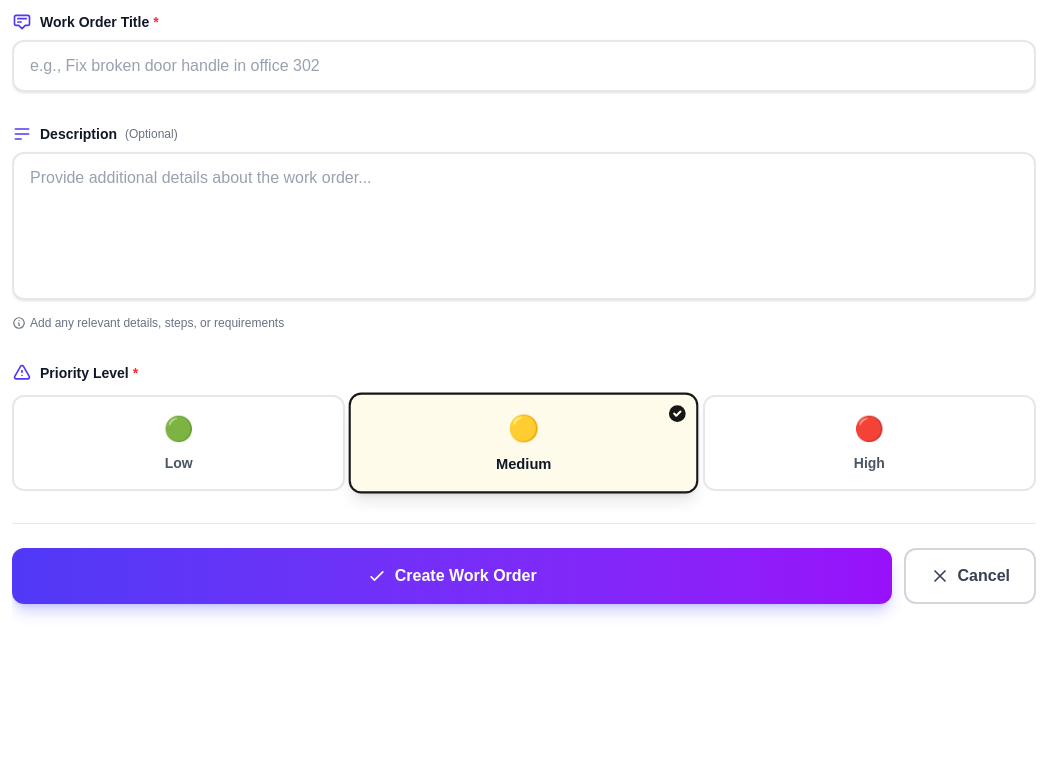
Test: WorkOrderForm › Create Mode › displays validation errors from API
The image size is (1048, 780).
Type "A" into the field labelled "Work Order Title *".
click(524, 66); type("A")  # box x1=12 y1=40 x2=1036 y2=92
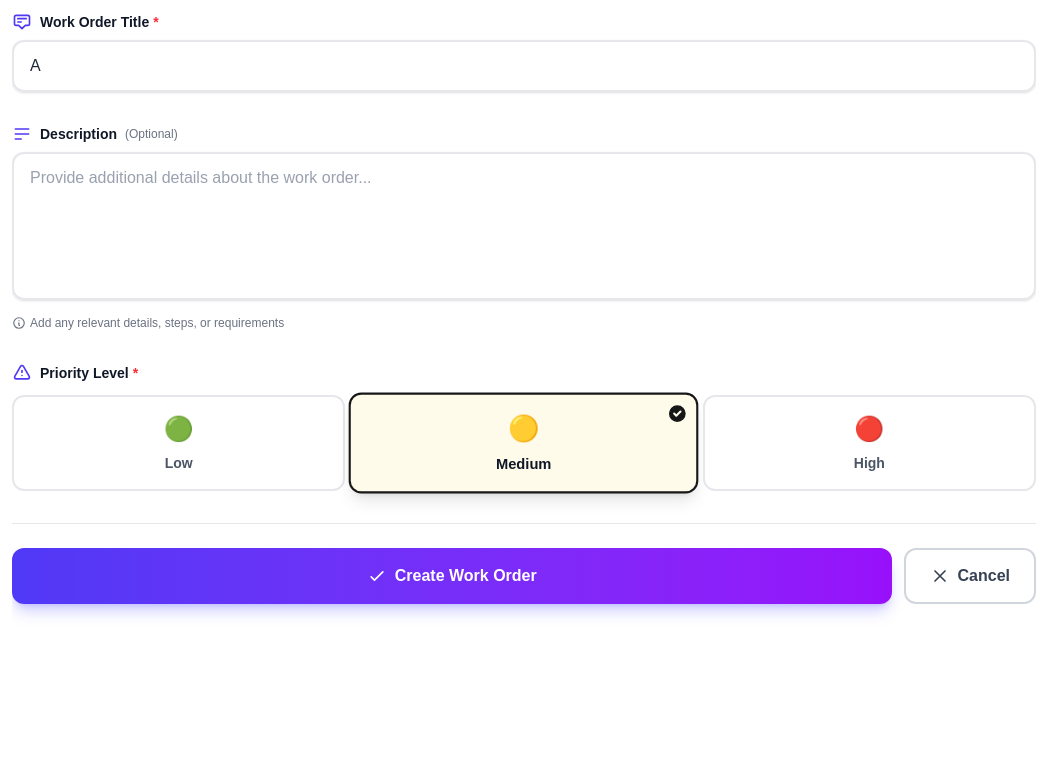
Type "Test description" into the text box labelled "Description (Optional)".
click(524, 226); type("Test description")  # box x1=12 y1=152 x2=1036 y2=300
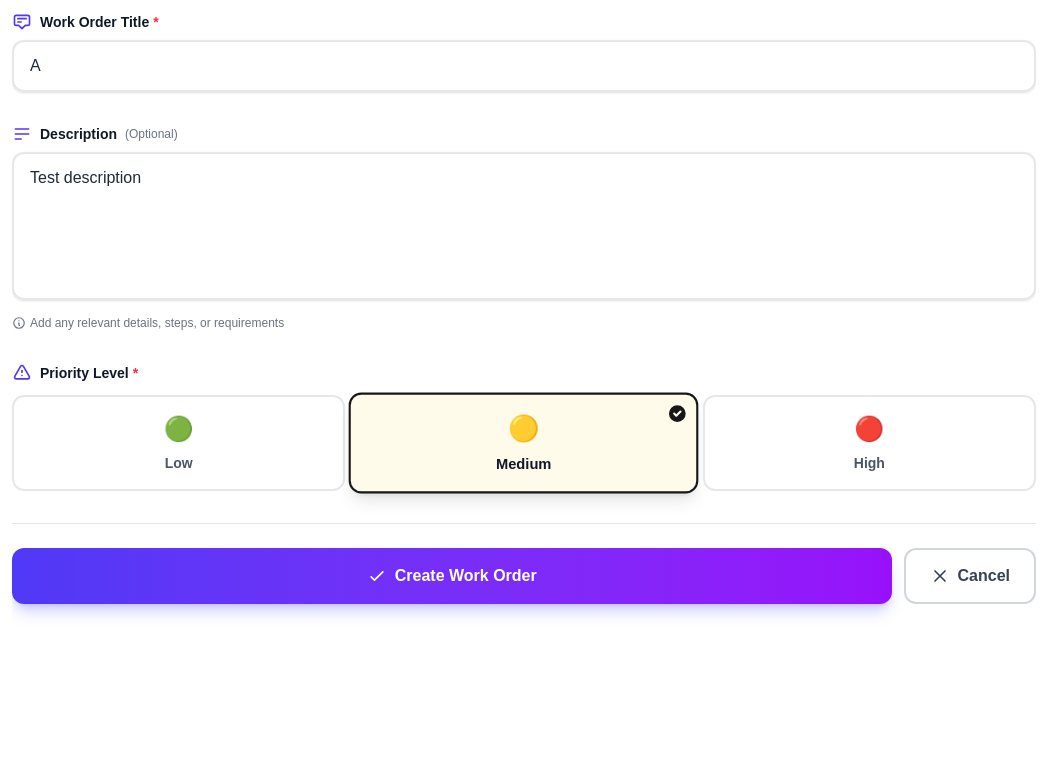
Click the button "Create Work Order".
click(452, 576)  # box x1=12 y1=548 x2=892 y2=604
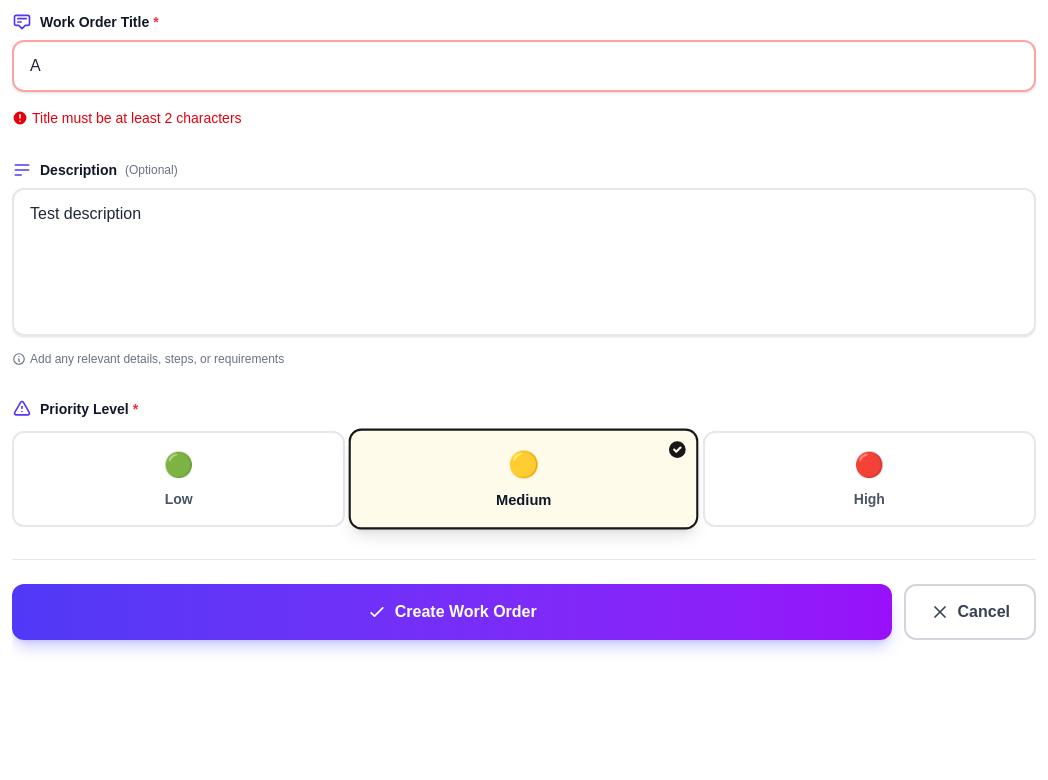
expect the text "Title must be at least 2 characters" is shown: met, box x1=12 y1=110 x2=242 y2=126
